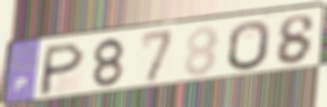7: (139, 27, 175, 86)
8: (182, 24, 222, 79), (276, 13, 316, 66), (91, 35, 129, 90)
O: (227, 19, 273, 73)
P: (36, 41, 88, 98)
